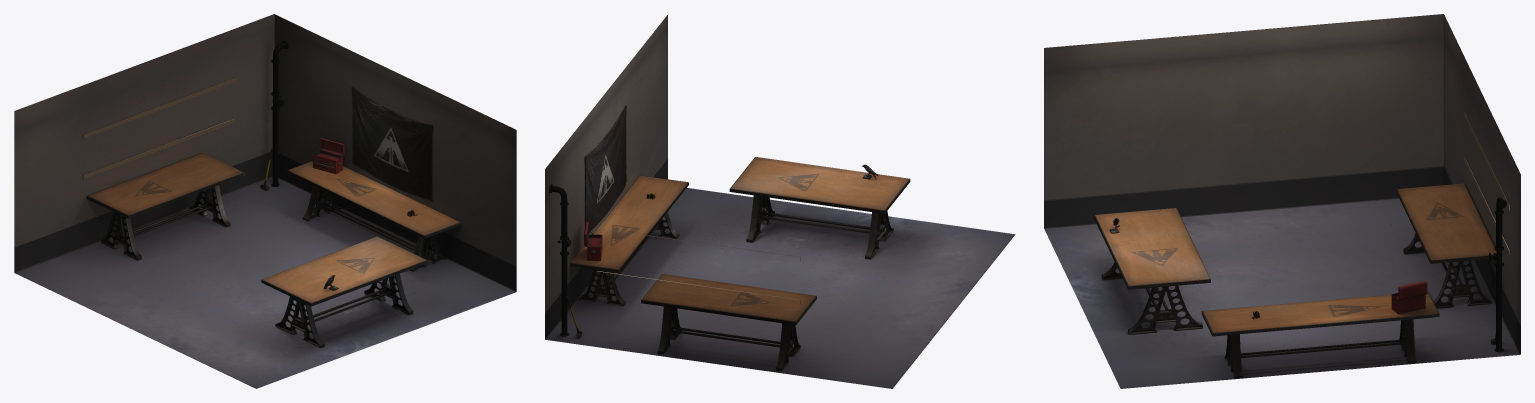
Rendered from background.glb.
3 renders of one model, left to right at view 1: azimuth 30°, elevation 25°; view 2: azimuth 150°, elevation 25°; view 3: azimuth 270°, elevation 25°, orthographic. The views are drawn at different scales.
Parts seen in each view (by area): view 1: Mesh_0; view 2: Mesh_0; view 3: Mesh_0.
Part boxes in pixels (x1,y1,x2,y2): Mesh_0: (14,14,516,388); Mesh_0: (545,15,1015,388); Mesh_0: (1044,14,1520,388).
Size of what is drawn, in the model's own units: 9.84 by 4.29 by 10.19.
Materials: 1 (1 with a texture image).
